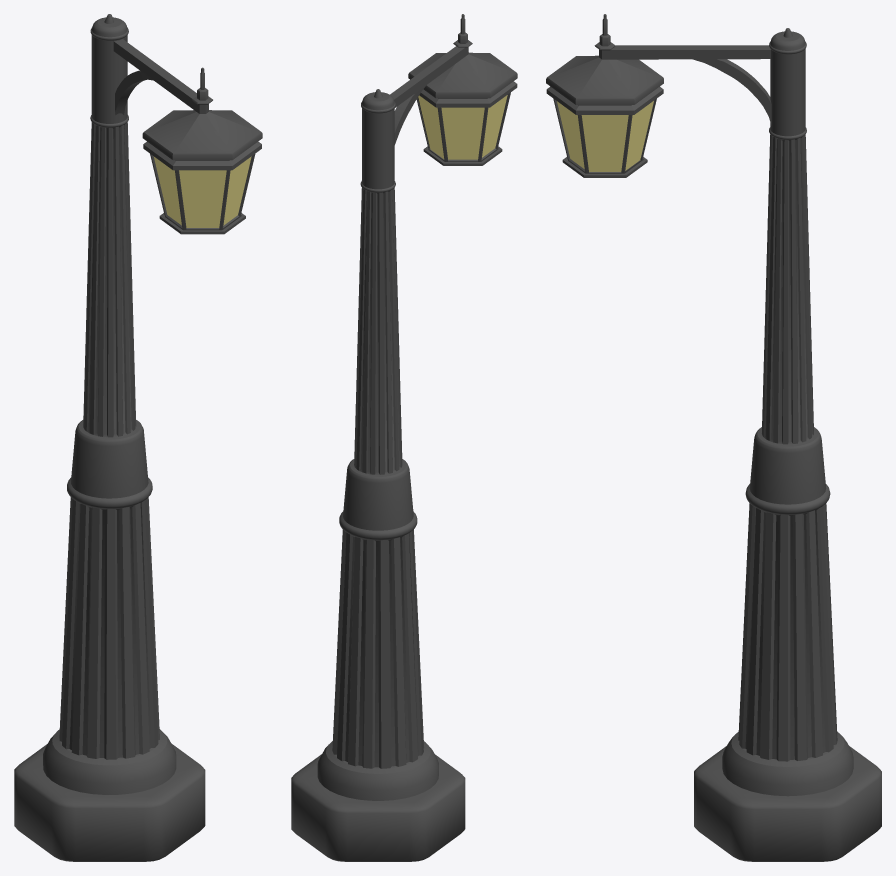
Rendered from streetlight.glb.
3 renders of one model, left to right at view 1: azimuth 30°, elevation 25°; view 2: azimuth 150°, elevation 25°; view 3: azimuth 270°, elevation 25°, orthographic. The views are drawn at different scales.
Visible parts, largest first — view 1: pillar.001, hex, lightHead, light; view 2: pillar.001, hex, lightHead, light; view 3: pillar.001, hex, lightHead, light.
Part boxes in pixels (left/top/right/bottom): pillar.001: left=43, top=14, right=176, bottom=794; hex: left=14, top=743, right=205, bottom=861; lightHead: left=113, top=39, right=262, bottom=234; light: left=153, top=156, right=251, bottom=227; pillar.001: left=317, top=89, right=438, bottom=800; hex: left=291, top=754, right=465, bottom=861; lightHead: left=390, top=14, right=517, bottom=165; light: left=418, top=95, right=507, bottom=159; pillar.001: left=722, top=28, right=853, bottom=796; hex: left=694, top=746, right=881, bottom=861; lightHead: left=546, top=14, right=771, bottom=177; light: left=557, top=101, right=653, bottom=171.
Bounding box in the file's own units: 0.1757 × 0.9271 × 0.346.
